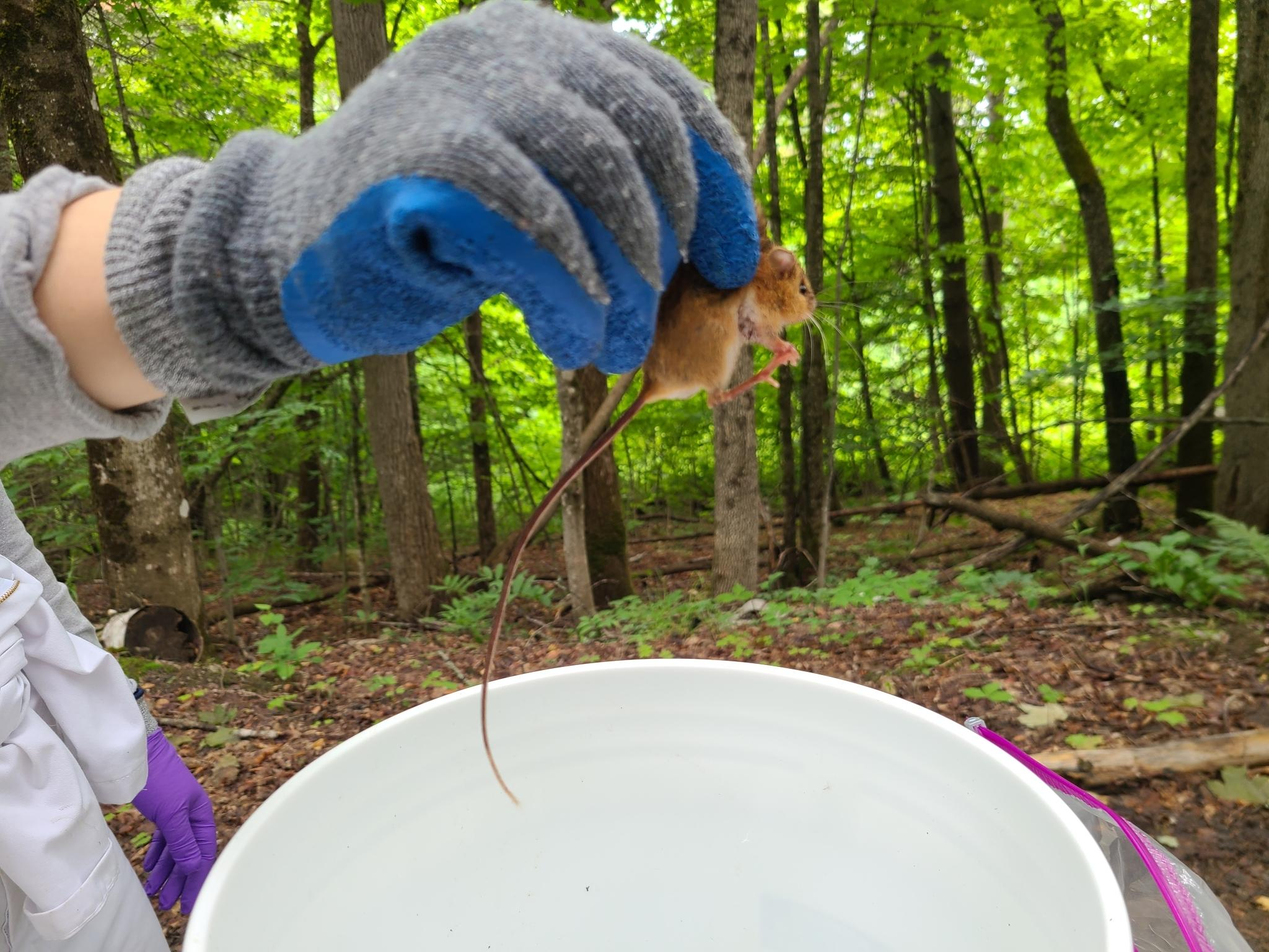rat: (481, 236, 816, 806)
